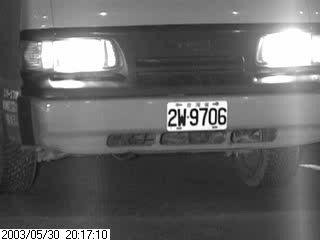plate: (163, 100, 229, 132)
